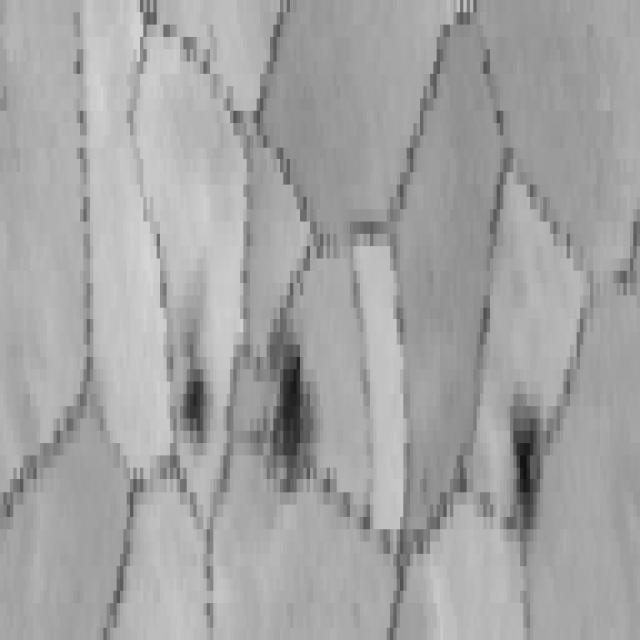good_void: (261, 293, 325, 530), (496, 374, 556, 568), (183, 354, 206, 444)
